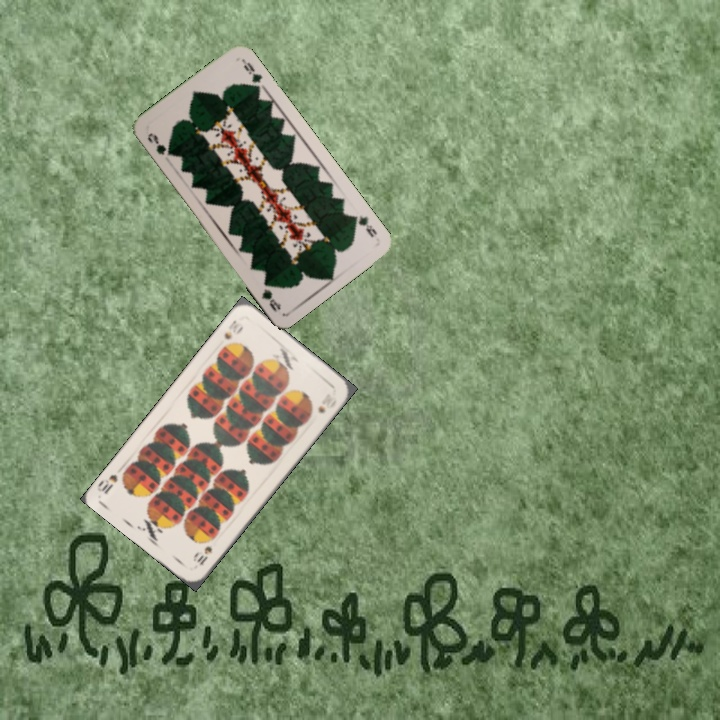G9: (347, 211, 380, 240), (143, 129, 174, 159)
S10: (190, 534, 217, 569), (220, 316, 245, 342)
